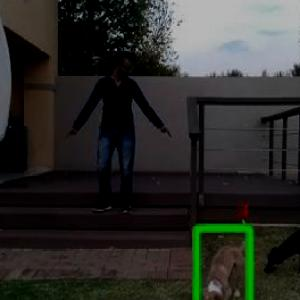land: (70, 51, 162, 225)
